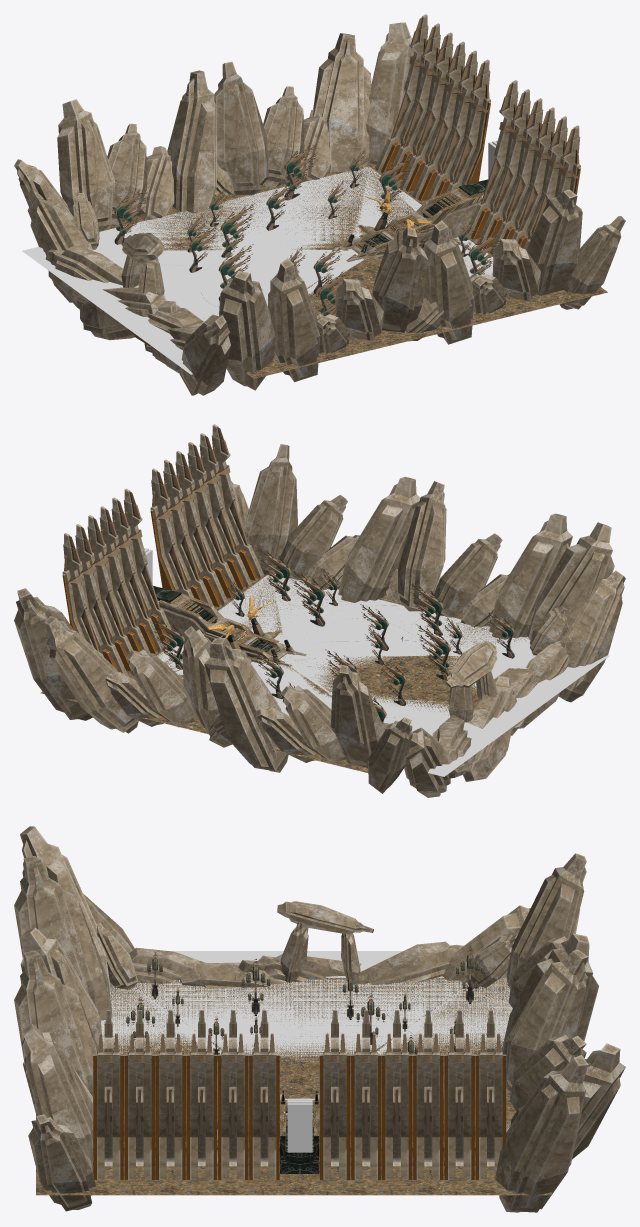
3 renders of one model, top to bottom at view 1: azimuth 30°, elevation 25°; view 2: azimuth 150°, elevation 25°; view 3: azimuth 270°, elevation 25°, orthographic. The views are drawn at different scales.
Visible parts, largest first — view 1: emisor_hierba, Cube.018, Cube.023, Cube.013, Cube.020, Cube.033, Cube.024, Cube.026, Cube.022, Cube.025, Cube.017, Cube.038 (+53 smaller); view 2: emisor_hierba, Cube.023, Cube.026, Cube.018, Cube.024, Cube.025, Cube.022, Cube.033, Cube.038, Cube.017, Cube.020, consola_mirador_escaleras (+41 smaller); view 3: emisor_hierba, Cube.017, Cube.024, Cube.026, Cube.013, Cube.025, Cube.002, Cube.005, Cube.007, Cube.008, Cube.010, Cube.011 (+41 smaller).
Boxes of the visible parts, <box> form: emisor_hierba: <box>22,166,493,374</box>; Cube.018: <box>313,33,371,172</box>; Cube.023: <box>167,70,216,213</box>; Cube.013: <box>214,61,268,195</box>; Cube.020: <box>57,99,114,231</box>; Cube.033: <box>219,271,274,390</box>; Cube.024: <box>268,258,320,382</box>; Cube.026: <box>423,220,474,344</box>; Cube.022: <box>372,227,428,332</box>; Cube.025: <box>526,189,582,295</box>; Cube.017: <box>366,22,414,164</box>; Cube.038: <box>179,314,230,395</box>; emisor_hierba: <box>157,574,609,776</box>; Cube.023: <box>204,637,288,772</box>; Cube.026: <box>338,476,420,602</box>; Cube.018: <box>44,616,138,733</box>; Cube.024: <box>489,513,572,639</box>; Cube.025: <box>243,444,297,574</box>; Cube.022: <box>398,481,446,611</box>; Cube.033: <box>527,522,614,640</box>; Cube.038: <box>558,570,625,702</box>; Cube.017: <box>14,588,92,720</box>; Cube.020: <box>330,664,384,767</box>; consola_mirador_escaleras: <box>153,586,304,665</box>; emisor_hierba: <box>101,951,512,1163</box>; Cube.017: <box>495,1055,588,1212</box>; Cube.024: <box>14,855,112,1021</box>; Cube.026: <box>14,950,98,1096</box>; Cube.013: <box>506,950,588,1093</box>; Cube.025: <box>22,1023,92,1170</box>; Cube.002: <box>248,1009,279,1180</box>; Cube.005: <box>155,1009,186,1180</box>; Cube.007: <box>444,1009,475,1180</box>; Cube.008: <box>412,1009,443,1180</box>; Cube.010: <box>93,1009,124,1180</box>; Cube.011: <box>350,1009,381,1180</box>.
Size of what is drawn, in the model's own units: 56.52 by 25.4 by 56.96.
6 materials, 5 textured.
